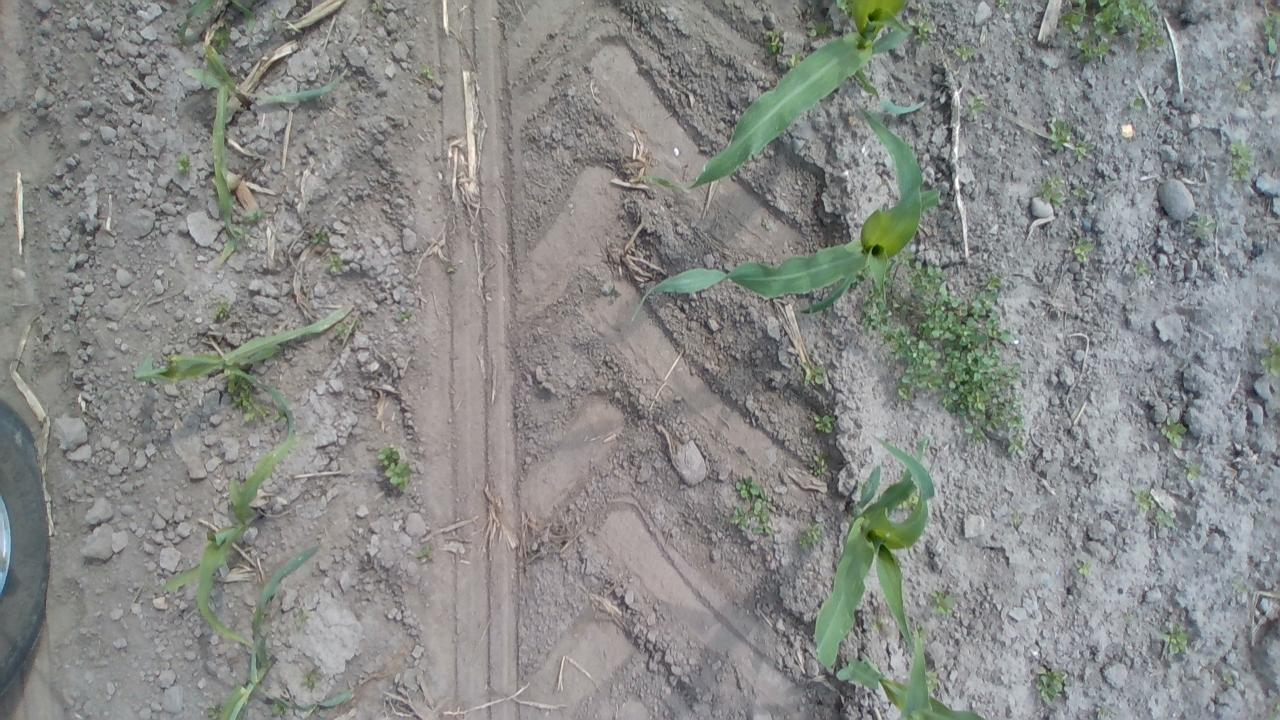Maize: (623, 109, 951, 346), (640, 1, 934, 195), (154, 396, 306, 651), (808, 431, 949, 679), (132, 296, 362, 439), (208, 538, 338, 718), (185, 11, 366, 112), (196, 92, 286, 266), (838, 624, 991, 718)
Weeds: (852, 243, 1034, 454), (1060, 0, 1168, 59), (726, 476, 778, 537), (222, 378, 276, 428), (374, 442, 416, 494), (1224, 137, 1256, 183), (1035, 665, 1068, 708), (794, 514, 826, 554), (1042, 116, 1076, 152), (1036, 172, 1068, 209), (1158, 624, 1191, 658), (1157, 414, 1190, 446), (927, 587, 958, 621), (1185, 212, 1217, 244), (800, 360, 834, 390), (811, 410, 842, 442), (904, 12, 934, 45), (962, 94, 994, 124), (304, 226, 340, 252), (1256, 13, 1276, 56), (332, 316, 366, 341), (1130, 485, 1159, 514), (1069, 236, 1099, 264), (1258, 338, 1278, 380), (237, 205, 273, 228), (806, 16, 833, 45), (174, 148, 199, 178), (806, 450, 831, 480), (322, 254, 348, 280), (412, 540, 438, 566), (211, 300, 237, 326), (1147, 506, 1175, 530), (921, 666, 942, 696), (1070, 138, 1094, 162), (392, 306, 418, 328), (1229, 576, 1252, 600), (1130, 257, 1152, 282), (955, 41, 980, 63), (762, 27, 784, 52), (1233, 72, 1254, 98), (365, 1, 397, 18), (416, 62, 438, 86), (300, 667, 320, 693), (292, 608, 312, 632), (1004, 509, 1026, 530), (1218, 672, 1240, 693), (1074, 558, 1094, 581), (1182, 460, 1204, 480), (204, 701, 229, 718), (1069, 182, 1090, 202), (1124, 92, 1145, 112), (788, 48, 807, 70), (1261, 692, 1276, 719), (1092, 703, 1110, 718)
